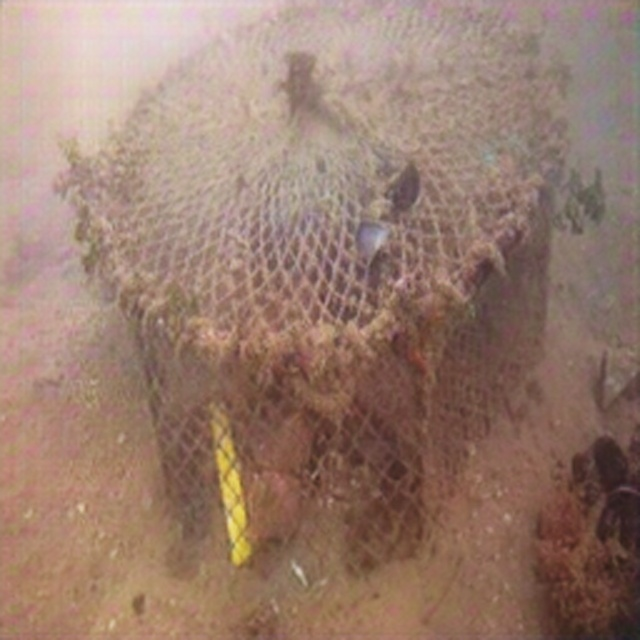mine: (90, 0, 565, 590)
